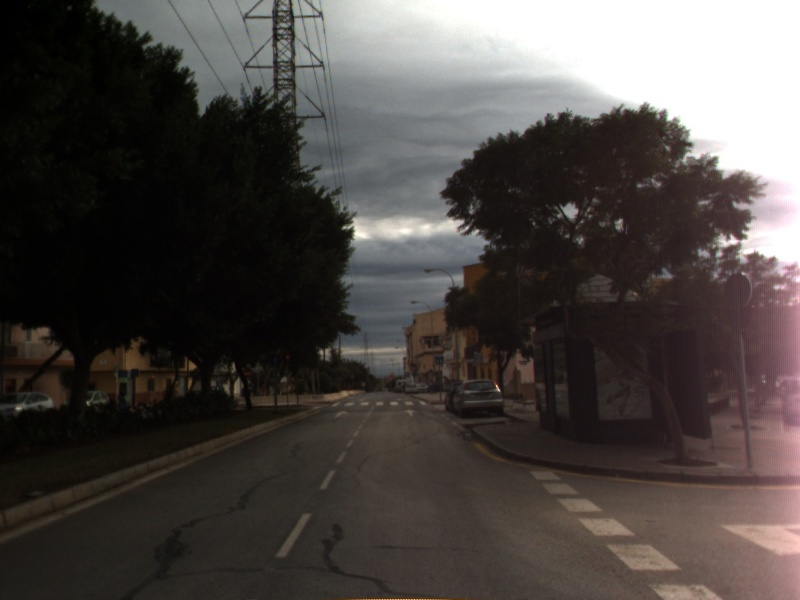STRAIGHT: (331, 408, 351, 420), (402, 407, 420, 418)
